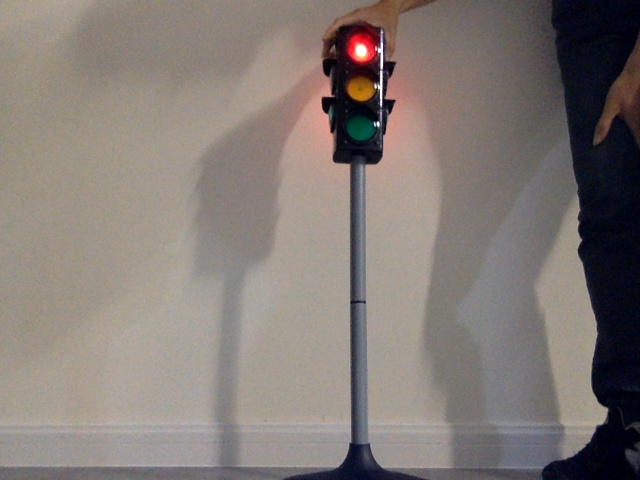red: (341, 29, 378, 143)
